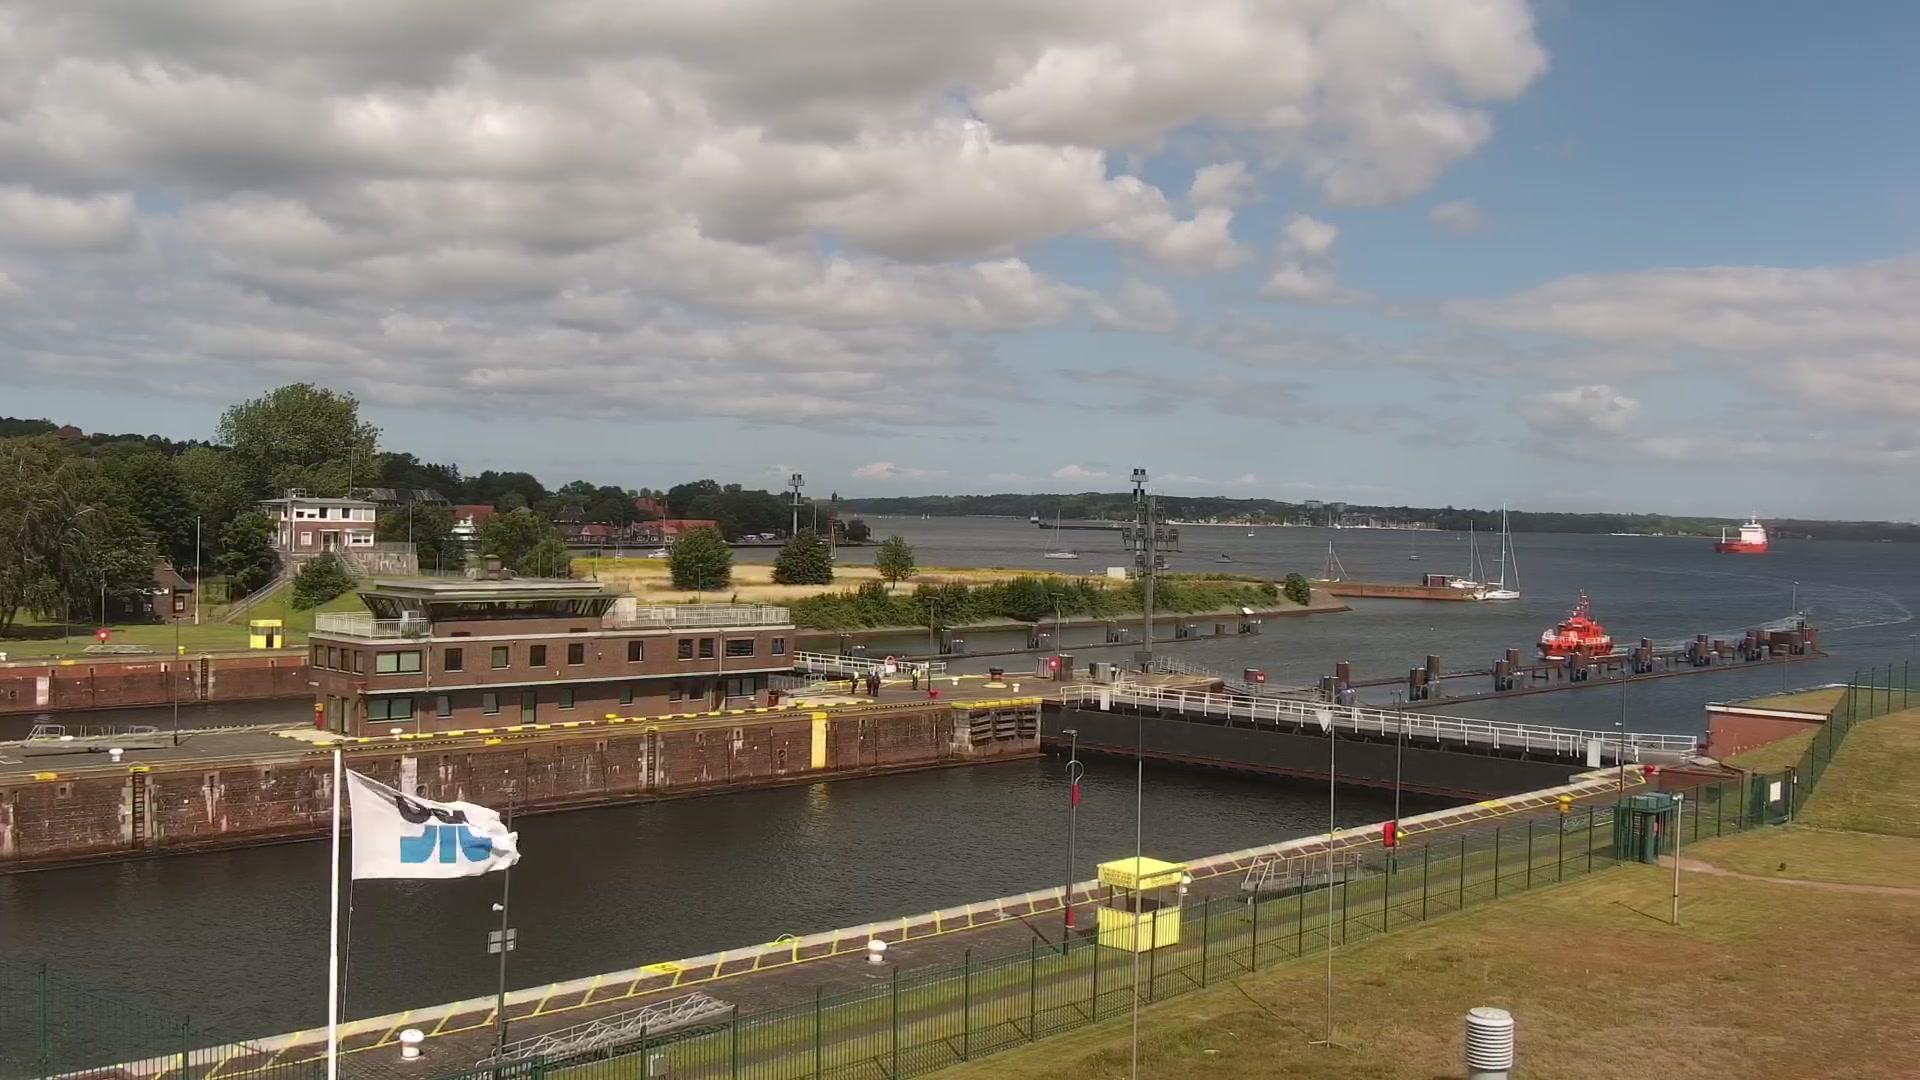human: (872, 670, 881, 696), (849, 671, 858, 694), (911, 665, 919, 689), (865, 672, 872, 694)
sea: (1535, 585, 1613, 662), (1471, 501, 1521, 600), (1448, 517, 1486, 589), (1712, 509, 1769, 555), (1041, 508, 1079, 560), (1310, 539, 1351, 584), (645, 512, 679, 560), (450, 512, 479, 545), (826, 521, 837, 560), (1406, 529, 1419, 561), (1246, 516, 1255, 537), (1028, 507, 1039, 523), (926, 512, 931, 519), (920, 512, 925, 519)
